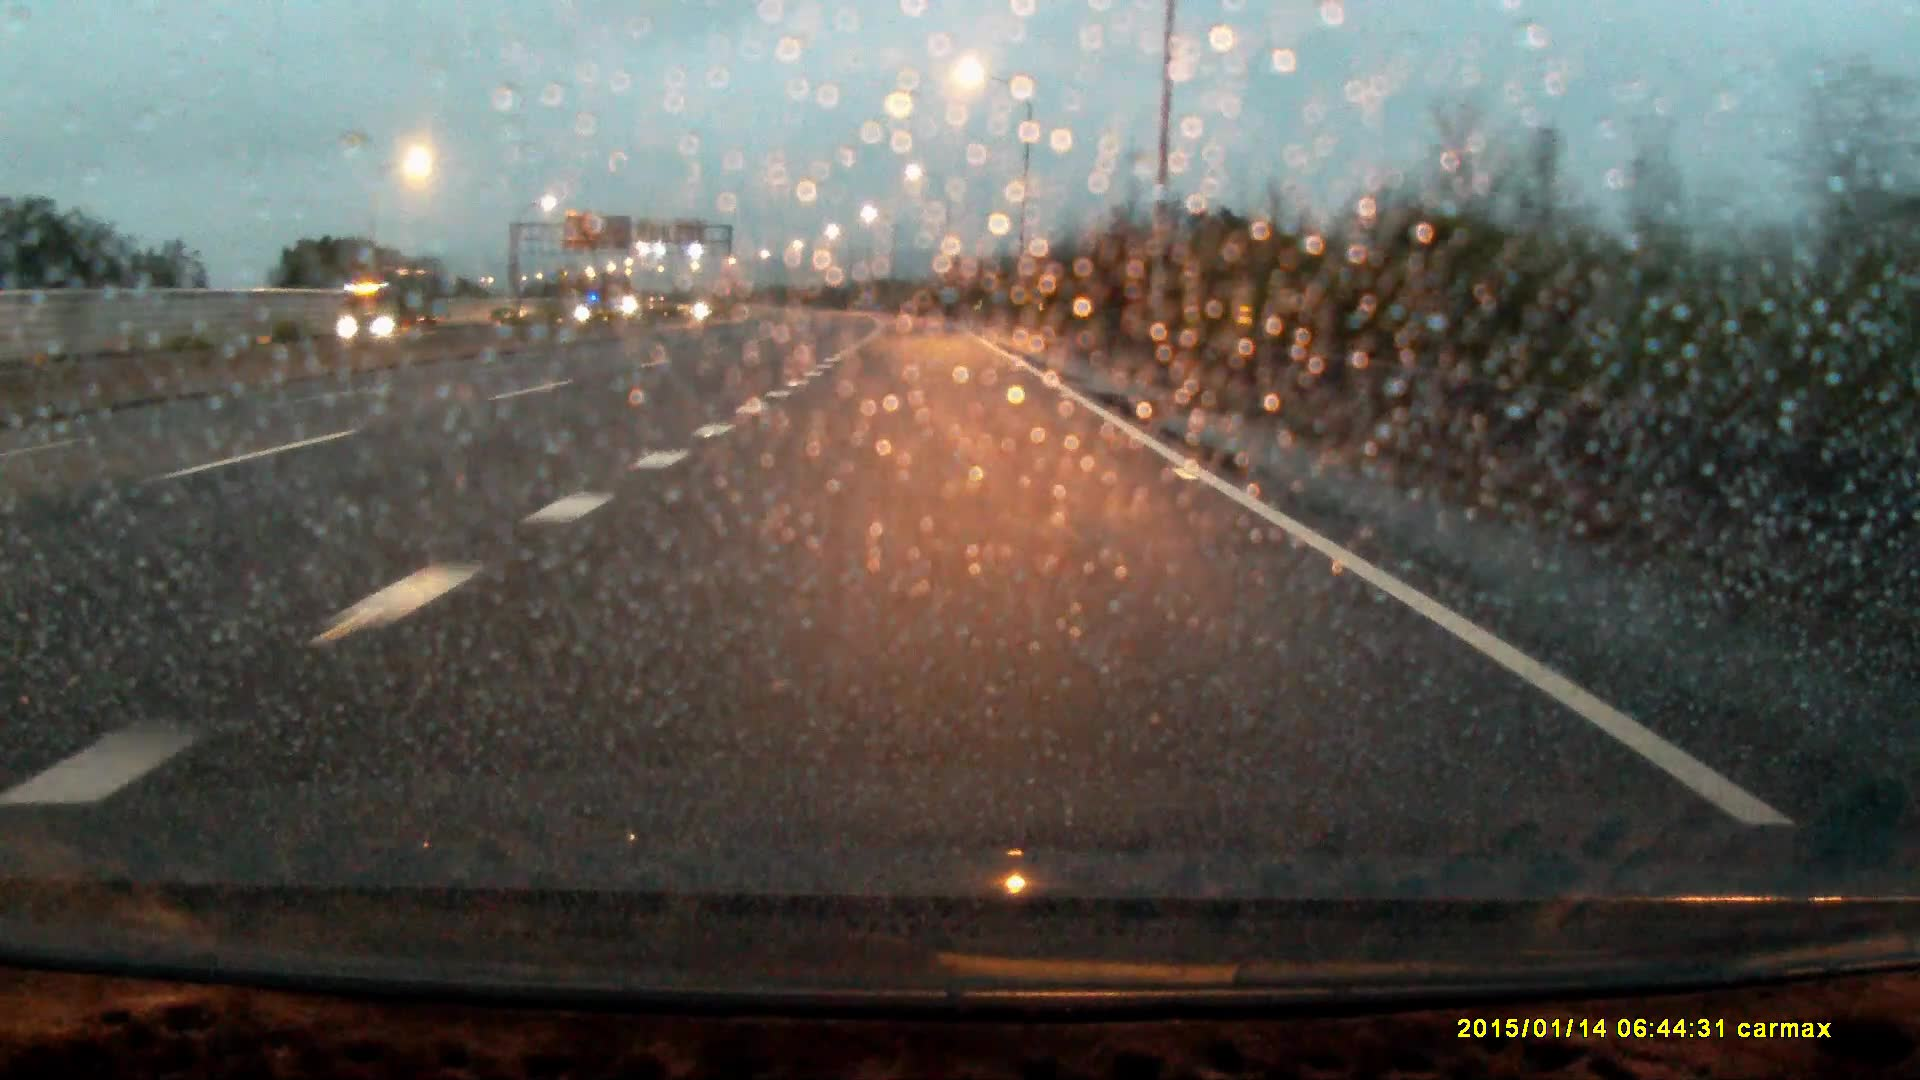vehicle: (336, 281, 422, 345)
